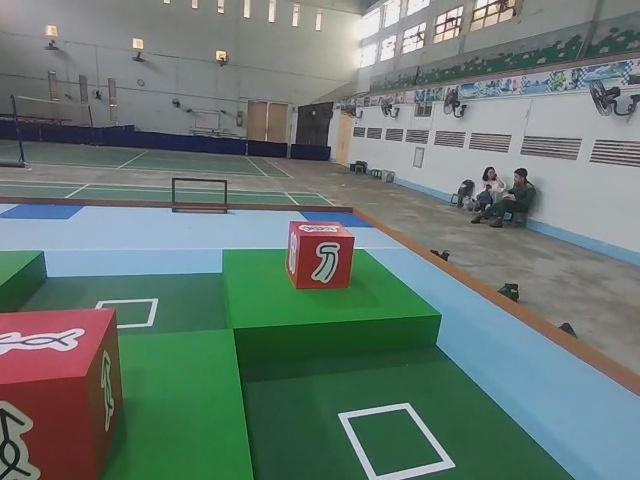R2 Fake: (285, 218, 357, 296)
R2 Real: (0, 307, 134, 479)
